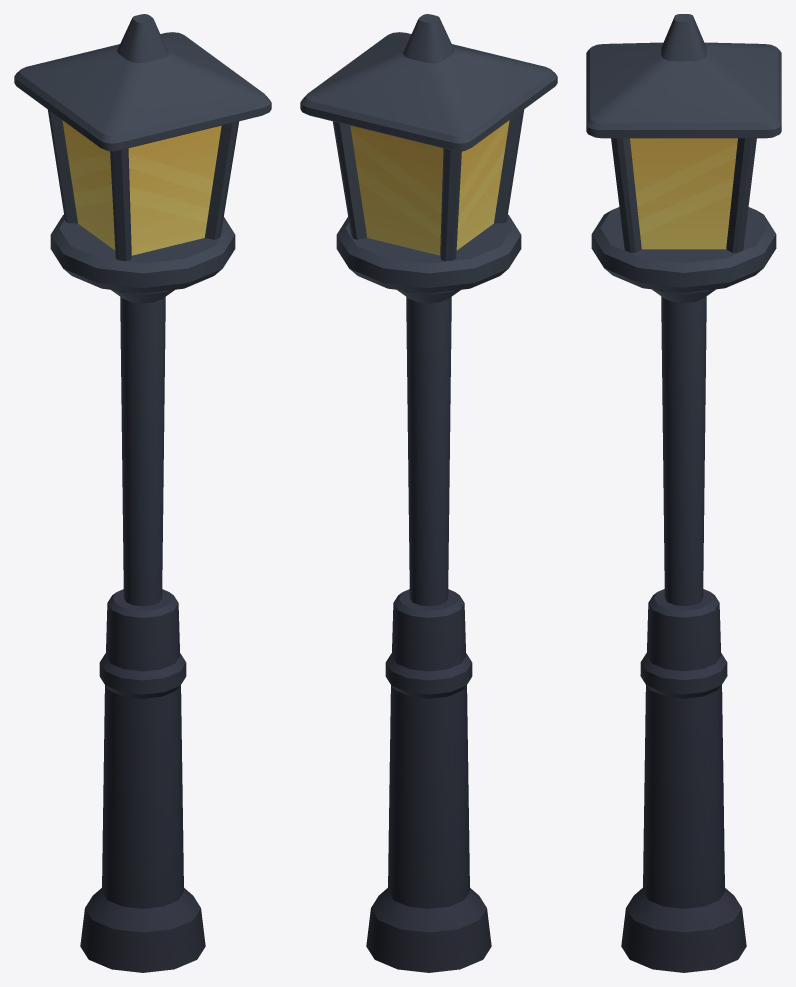
File: StreetLamp_1_1.fbx
3 renders of one model, left to right at view 1: azimuth 30°, elevation 25°; view 2: azimuth 150°, elevation 25°; view 3: azimuth 270°, elevation 25°, orthographic.
Visible parts, largest first — view 1: StreetLamp_1_1; view 2: StreetLamp_1_1; view 3: StreetLamp_1_1.
Boxes of the visible parts, bbox=[...] form: StreetLamp_1_1: bbox=[14, 14, 271, 972]; StreetLamp_1_1: bbox=[300, 14, 557, 972]; StreetLamp_1_1: bbox=[586, 14, 781, 972].
Size of the model in its own units: 60.15 by 315 by 60.15.
